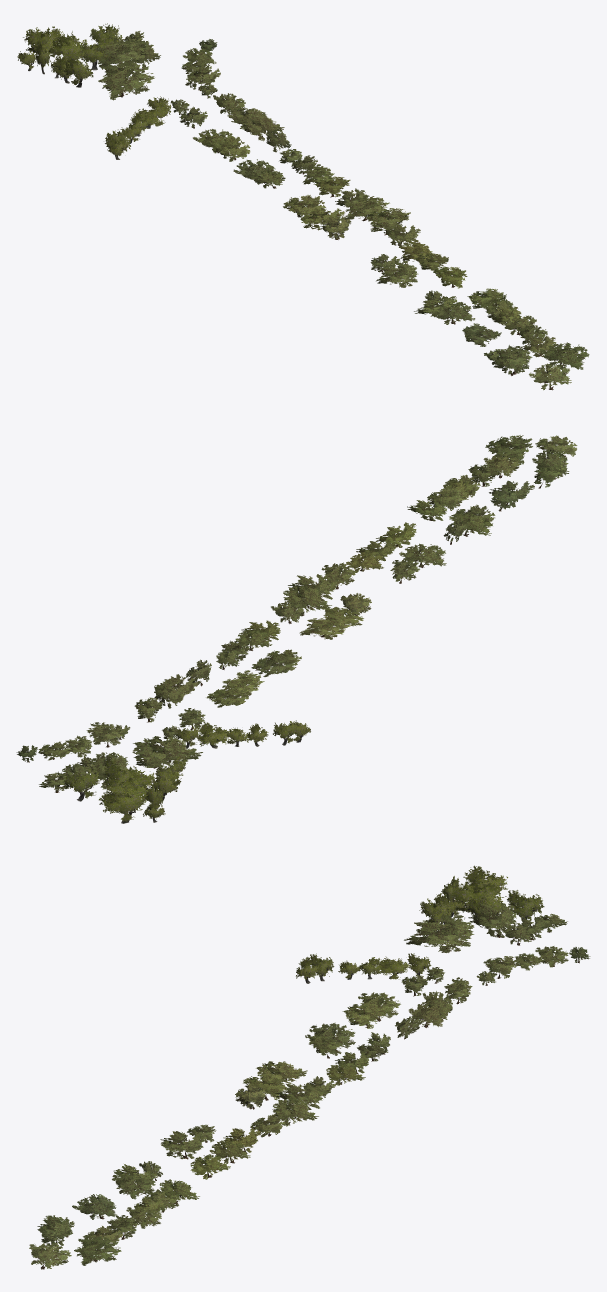
3 views of the same model, one above another, from view 1: azimuth 30°, elevation 25°; view 2: azimuth 150°, elevation 25°; view 3: azimuth 330°, elevation 25° (orthographic). The views are drawn at different scales.
Parts seen in each view (by area): view 1: object 1; view 2: object 1; view 3: object 1.
Boxes of the visible parts, x1,y1,x2,y2 form: object 1: (17, 23, 589, 390); object 1: (16, 435, 577, 821); object 1: (29, 865, 590, 1268).
Size of the model in its own units: 110 by 17.61 by 461.
3 materials, 3 textured.
